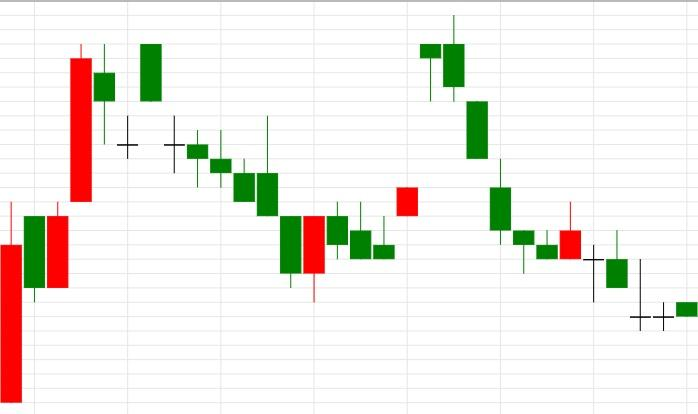bullish_engulfing_rise: (139, 43, 326, 303), (442, 15, 581, 274)
hanging_man_fall: (349, 44, 442, 260)
three_black_crows_fall: (349, 15, 511, 261)
